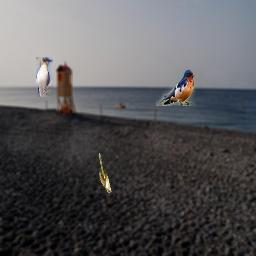Cuckoo: (36, 57, 53, 97), (99, 153, 112, 193)
Swallow: (156, 69, 196, 106)
